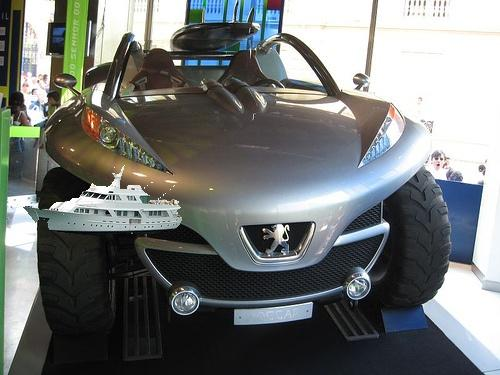tampered: (24, 166, 182, 235)
